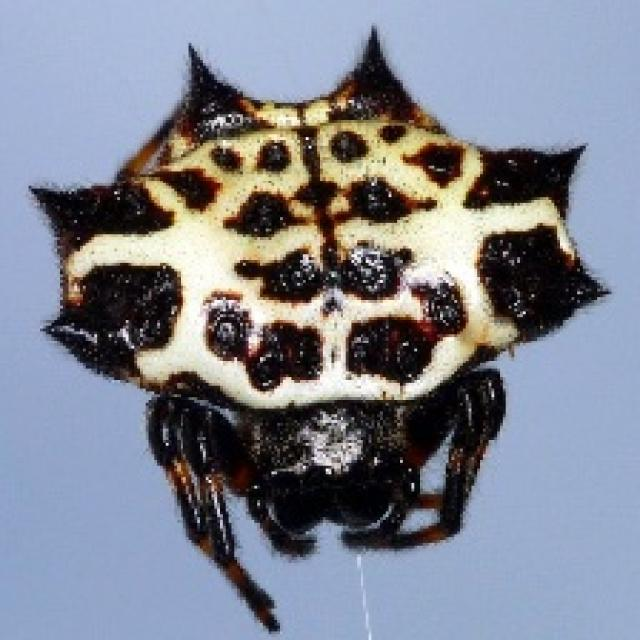Non venomous spider: (3, 15, 611, 621)
